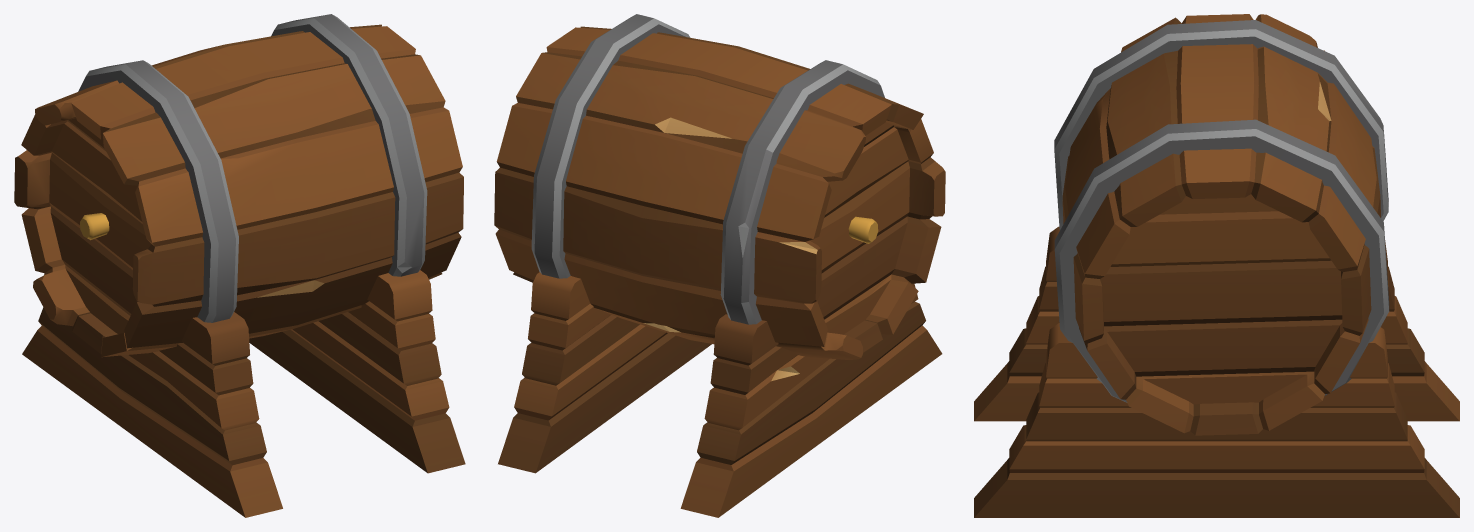
The model's file is Barrel_3_A.glb.
3 renders of one model, left to right at view 1: azimuth 30°, elevation 25°; view 2: azimuth 150°, elevation 25°; view 3: azimuth 270°, elevation 25°, orthographic. The views are drawn at different scales.
Parts seen in each view (by area): view 1: Barrel_3_A; view 2: Barrel_3_A; view 3: Barrel_3_A.
Part boxes in pixels (x1,y1,x2,y2): Barrel_3_A: [14, 14, 465, 517]; Barrel_3_A: [494, 14, 945, 517]; Barrel_3_A: [974, 14, 1459, 517].
Bounding box in the file's own units: 1.01 × 1.05 × 1.2.
2 materials, 2 textured.
